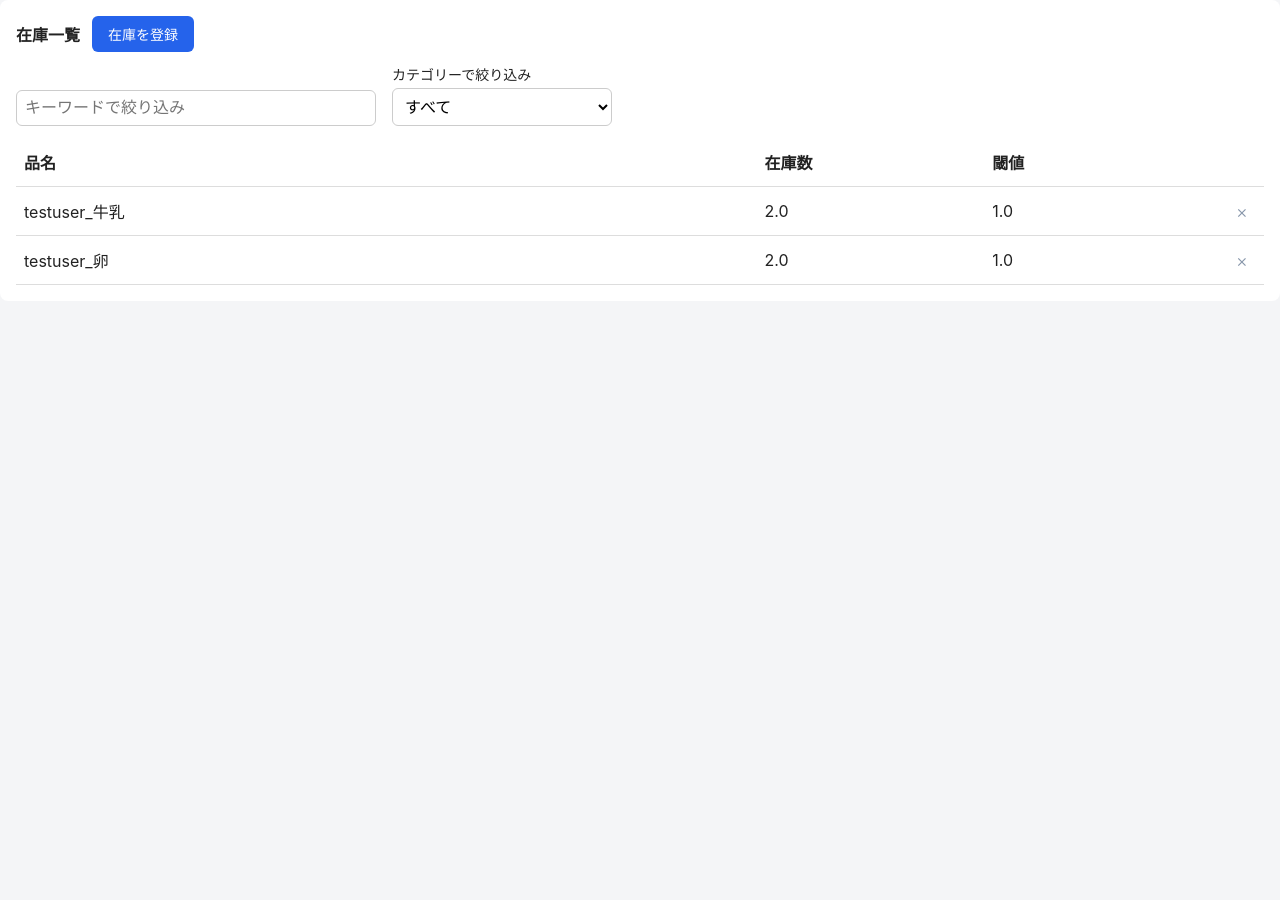
Test: 在庫の削除(×ボタンと確認ダイアログ) › 「削除する」でDELETEを呼び、一覧を再取得して通知する
What coordinates should you click on to do the following:
click the button named "testuser_卵を削除"
I would click on:
 (1242, 260)
Its box is [1220, 236, 1264, 285].
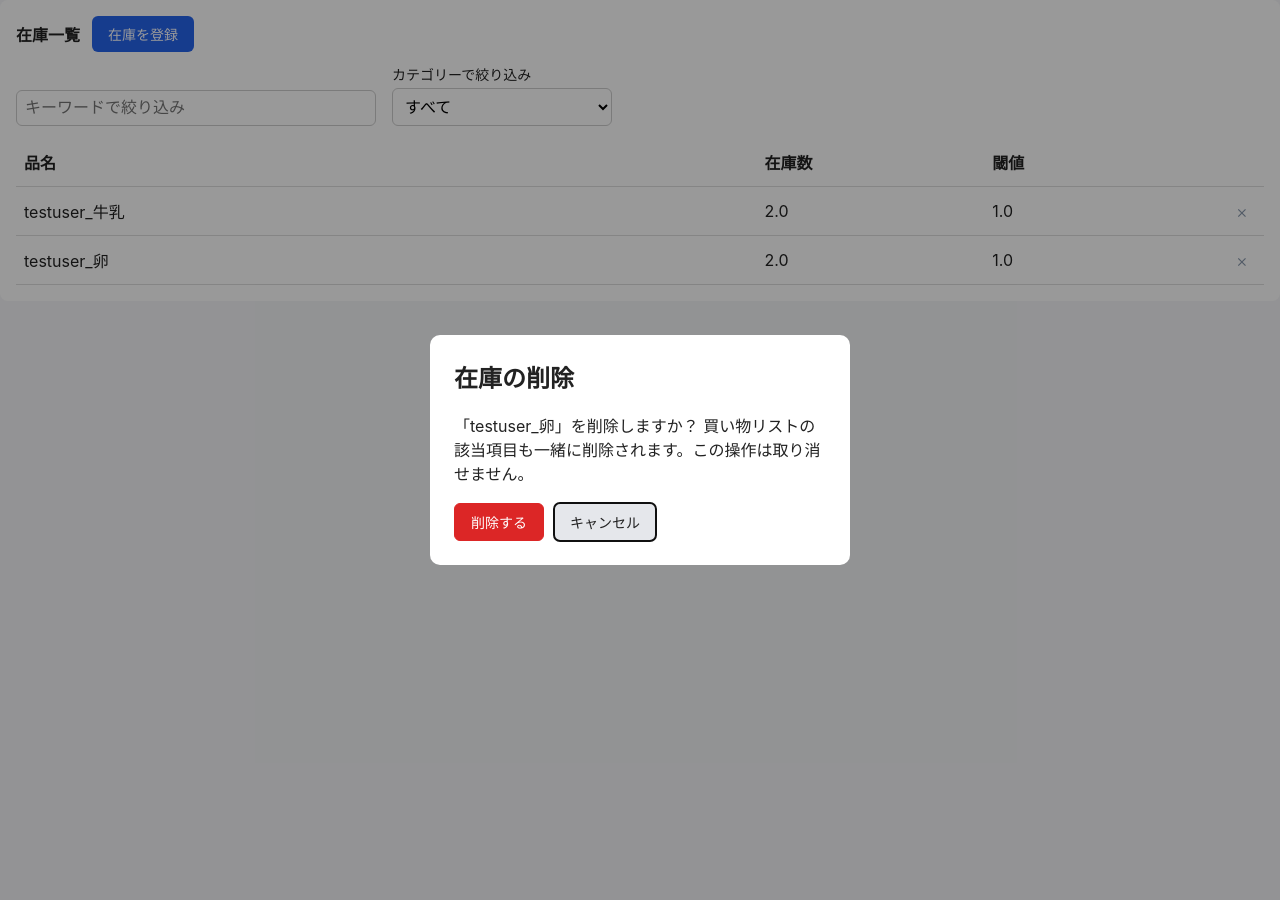
What coordinates should you click on to do the following:
click the button "削除する"
I would click on:
 (499, 522)
Its box is [454, 504, 544, 542].
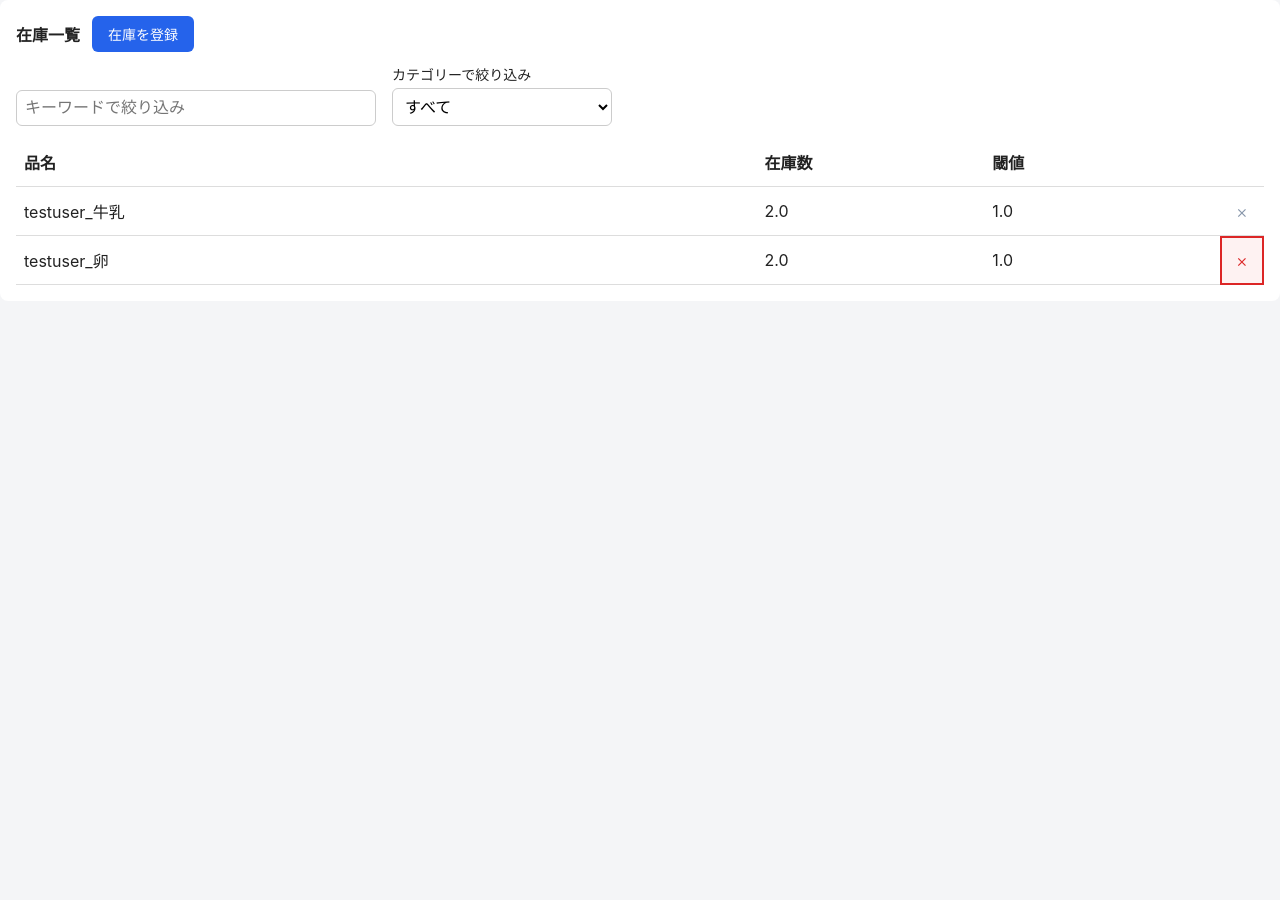
Expected: the dialog is gone
